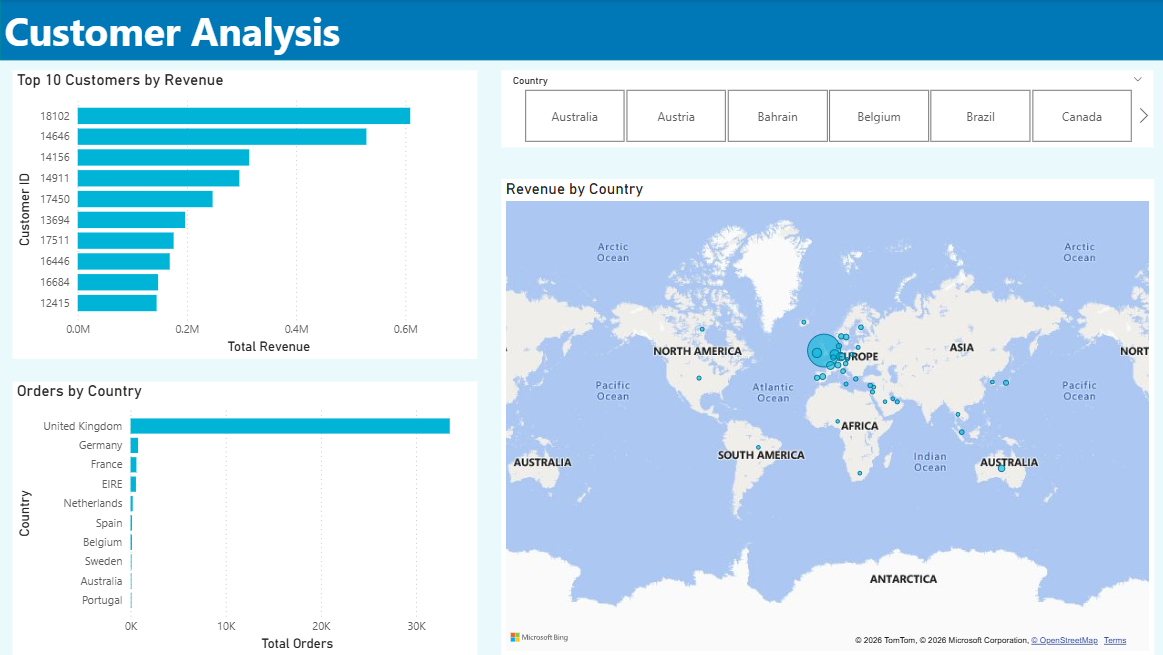

What the dashboard file says about the page in this screenshot:
{"tool":"powerbi","page":{"name":"Customer Analysis","canvas":[1280,720],"ordinal":1},"visuals":[{"type":"shape","box":[0,0,1280.3,67.2],"z":0},{"type":"textbox","box":[0,0,1280.3,67.2],"z":1000},{"type":"clusteredBarChart","title":"Top 10 Customers by Revenue","fields":{"Category":["Online Retail.Customer ID"],"Y":["_Measures.Total Revenue"]},"box":[13.7,78.2,510.5,317],"z":2000},{"type":"map","title":"Revenue by Country","fields":{"Category":["Online Retail.Country"],"Size":["_Measures.Total Revenue"]},"box":[550.3,197.6,716.3,522.8],"z":3000},{"type":"clusteredBarChart","title":"Orders by Country","fields":{"Category":["Online Retail.Country"],"Y":["_Measures.Total Orders"]},"box":[13.7,419.9,510.5,300.5],"z":4000},{"type":"slicer","fields":{"Values":["Online Retail.Country"]},"box":[550.3,78.2,716.3,85.1],"z":5000}]}

Visuals, with their boxes in screenshot pixels (x1, y1, x2, y2), scaled from the page's 1280x720 canvas onto the 1163x655 screenshot:
shape: BBox(0, 0, 1162, 61)
textbox: BBox(0, 0, 1162, 61)
"Top 10 Customers by Revenue" clusteredBarChart: BBox(12, 71, 476, 360)
"Revenue by Country" map: BBox(500, 180, 1151, 654)
"Orders by Country" clusteredBarChart: BBox(12, 382, 476, 654)
slicer - Online Retail.Country: BBox(500, 71, 1151, 149)
